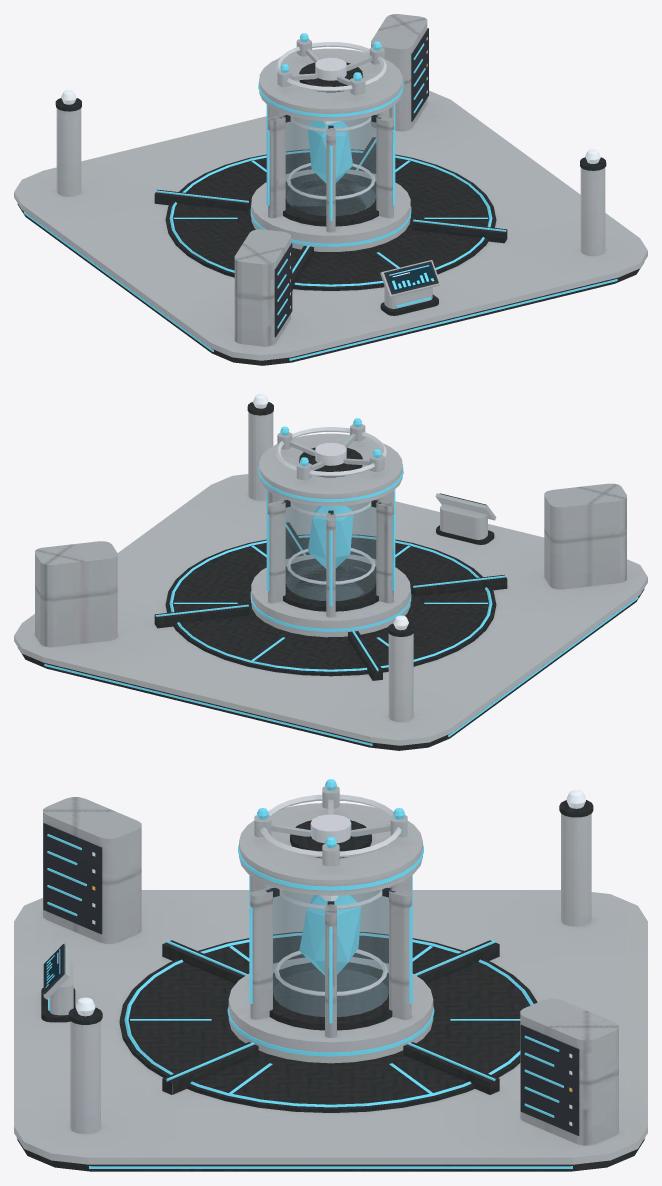
File: mining_efficiency_distributor.glb
The picture shows the model from 3 angles, top to bottom: view 1: azimuth 30°, elevation 25°; view 2: azimuth 150°, elevation 25°; view 3: azimuth 270°, elevation 25°; orthographic projection. The views are drawn at different scales.
Parts seen in each view (by area): view 1: te_mining_efficiency_distributor, move_sensor; view 2: te_mining_efficiency_distributor, move_sensor; view 3: te_mining_efficiency_distributor, move_sensor.
Part boxes in pixels (<box>): te_mining_efficiency_distributor: <box>14,14,647,365</box>; move_sensor: <box>275,33,386,95</box>; te_mining_efficiency_distributor: <box>14,394,647,750</box>; move_sensor: <box>275,418,386,480</box>; te_mining_efficiency_distributor: <box>14,790,647,1171</box>; move_sensor: <box>254,779,407,866</box>.
Size of the model in its own units: 1.86 by 0.748 by 1.86.
Materials: 2 (1 with a texture image).
